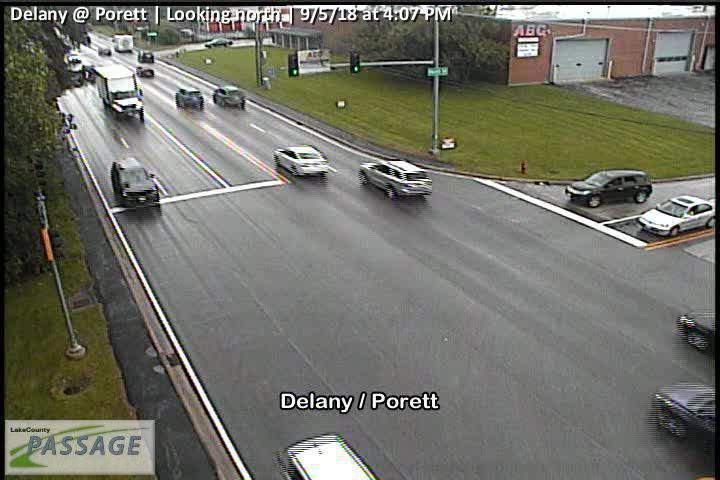SUV: (281, 433, 380, 480), (565, 168, 653, 208), (359, 159, 433, 199), (111, 158, 160, 205), (214, 85, 245, 107), (176, 86, 204, 109)
Sedan: (639, 195, 717, 237), (274, 144, 328, 177)
Truck: (94, 64, 144, 117)
